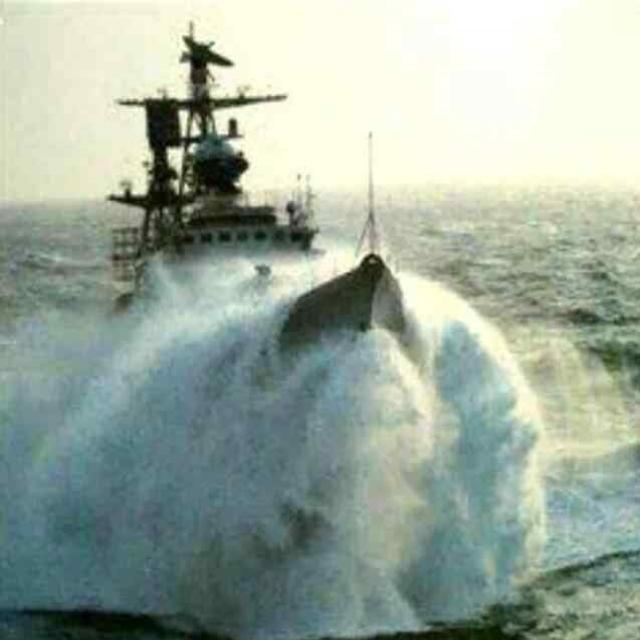navalvessels: (58, 30, 423, 412)
